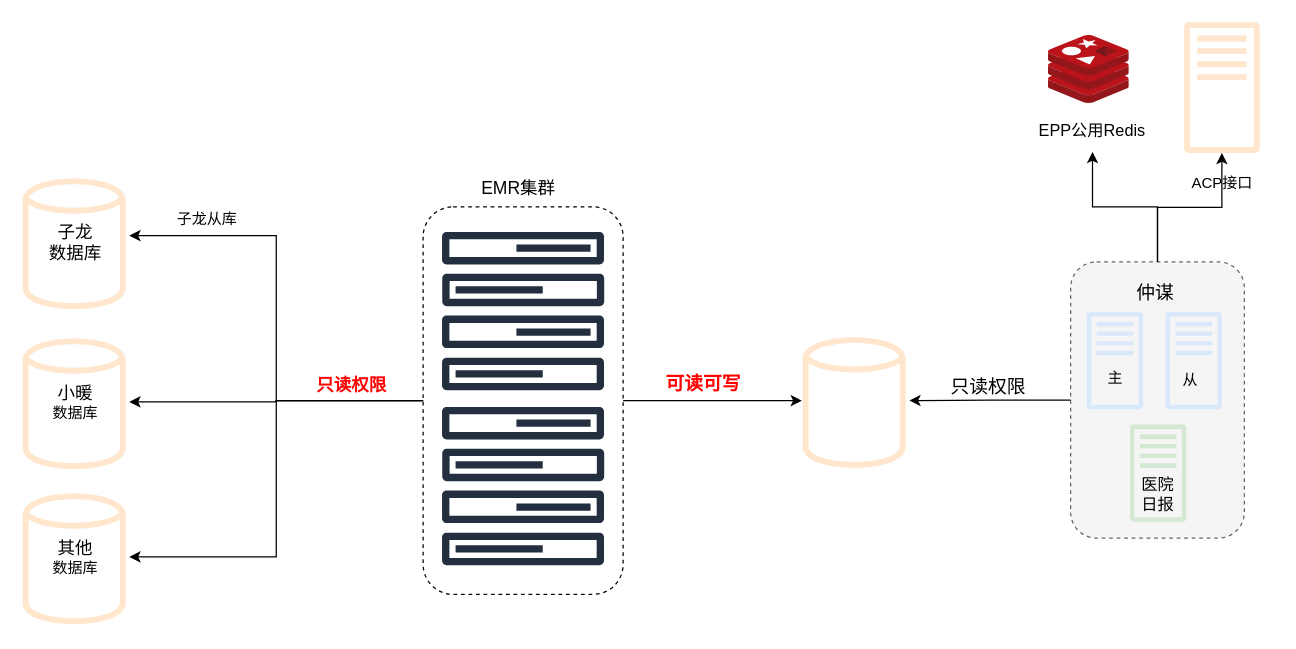
Some shapes in this 1296 by 649 pixel diagram are drawn without their labels. The shapes that lost their labels are listed below. From the top down, each one's centre as x and y in pixels, then its label:
At [1221,87]: "子龙 接口 服务".
At [853,402]: "EPP公用 数据库".
